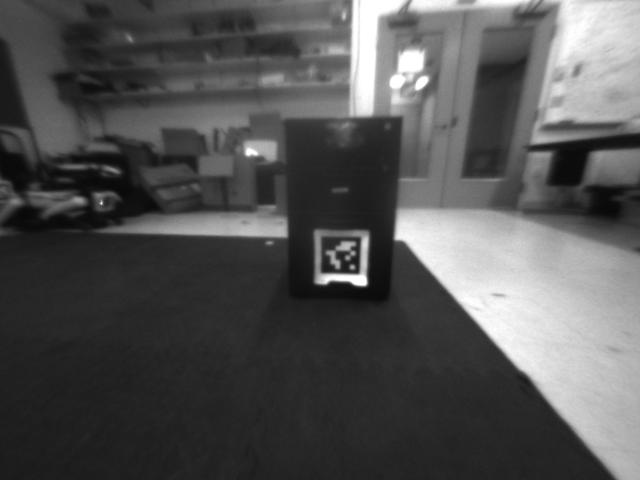door_handle: (433, 121, 452, 137)
drawer: (316, 114, 367, 159)
